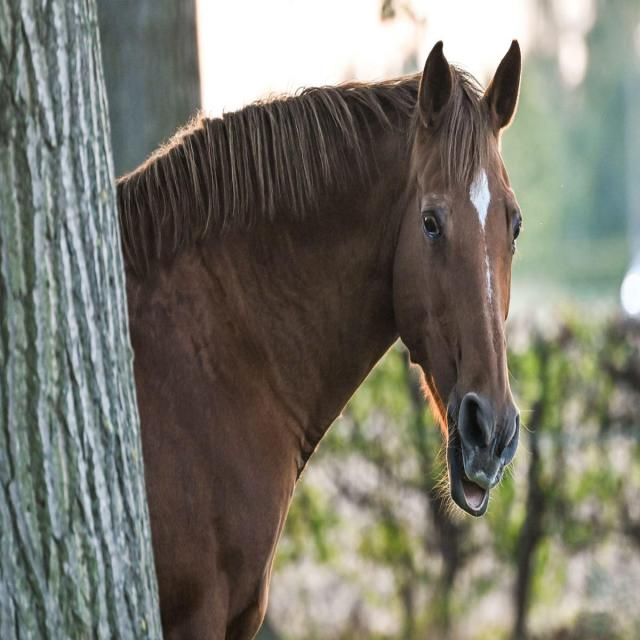Horse: (125, 36, 532, 640)
